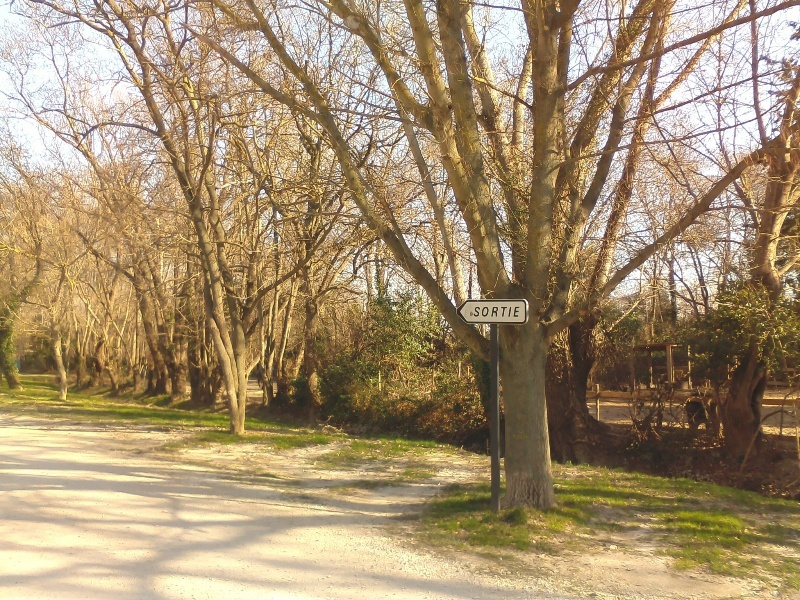text: (481, 306, 496, 318), (497, 306, 512, 318), (513, 306, 520, 318), (474, 306, 480, 318)
